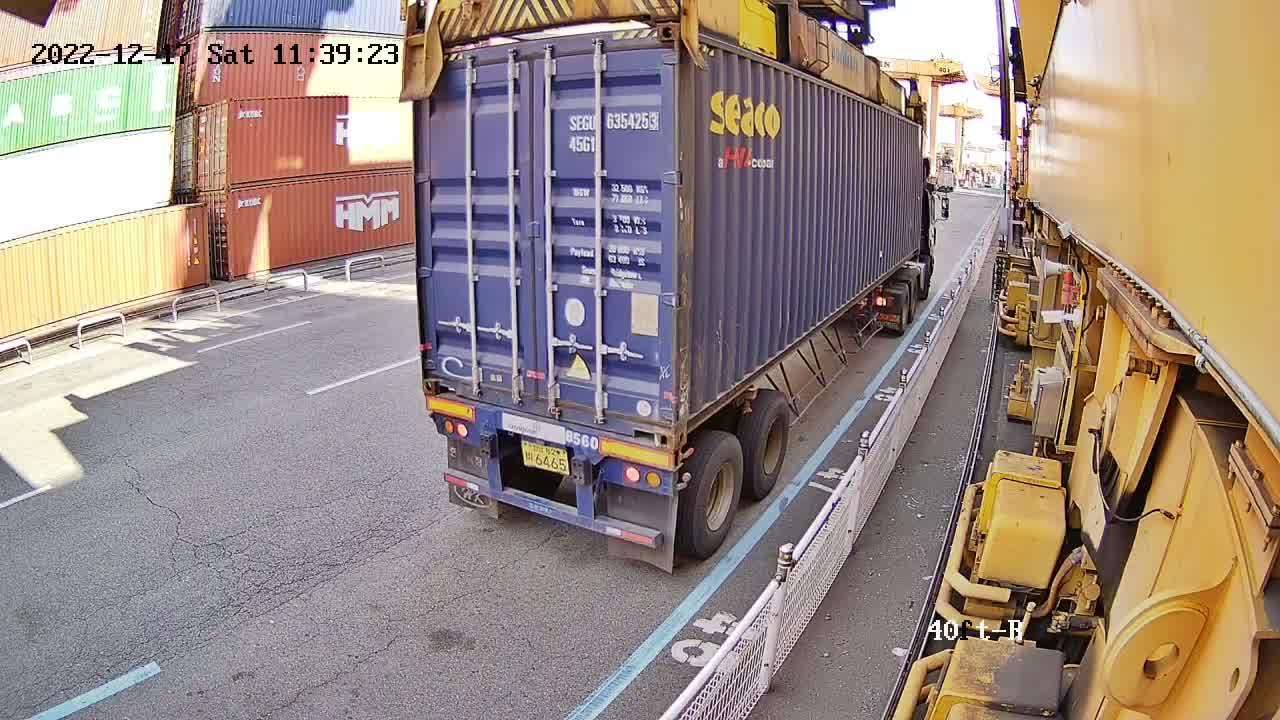Chassis: (429, 399, 673, 470)
Cone: (672, 447, 690, 469)
Hole_L: (672, 385, 708, 448), (423, 354, 461, 399)
Hole_R: (629, 395, 671, 449)
Tire: (689, 439, 744, 547), (749, 395, 790, 493)
